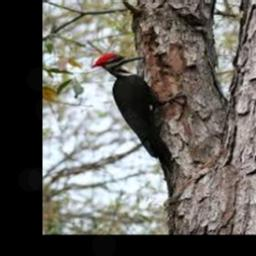Woodpecker: (91, 52, 186, 196)
